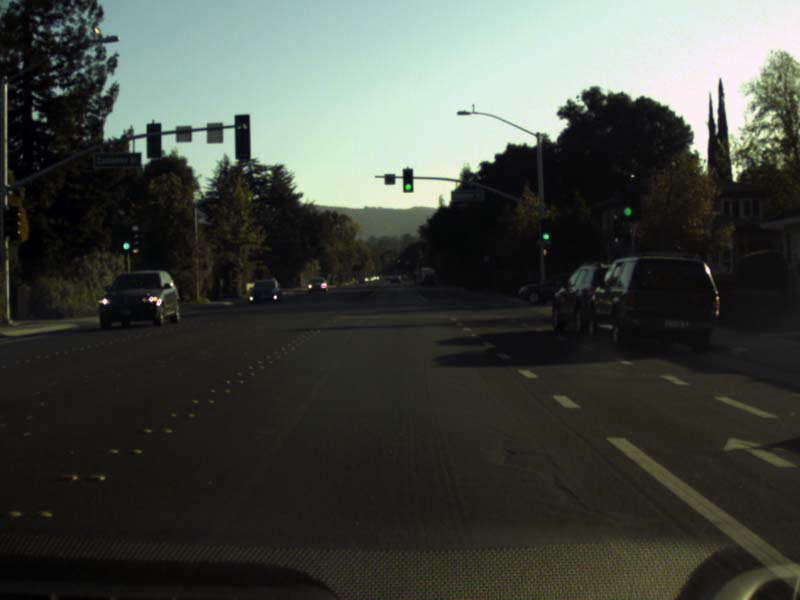Green: (620, 184, 637, 220), (402, 168, 412, 192), (541, 218, 550, 240), (121, 230, 130, 250), (396, 256, 400, 263)
